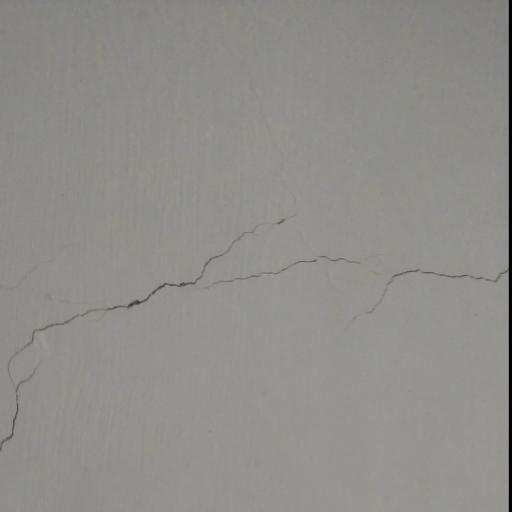minor_crack: (0, 194, 506, 454)
